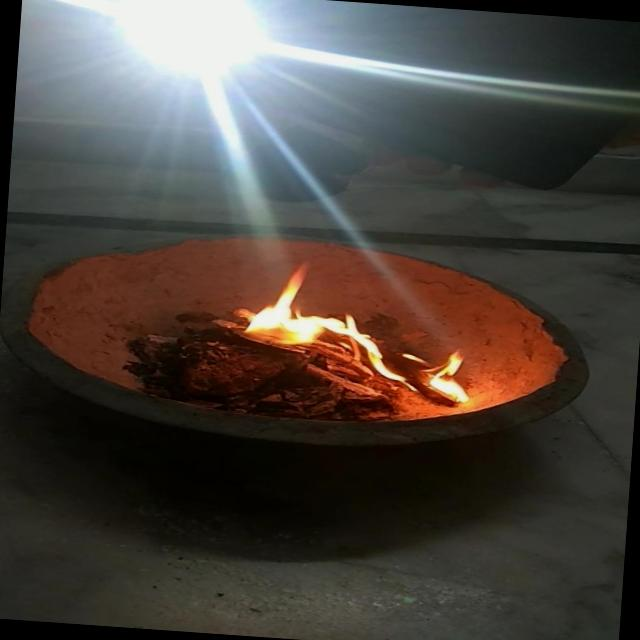fire: (247, 238, 390, 354)
